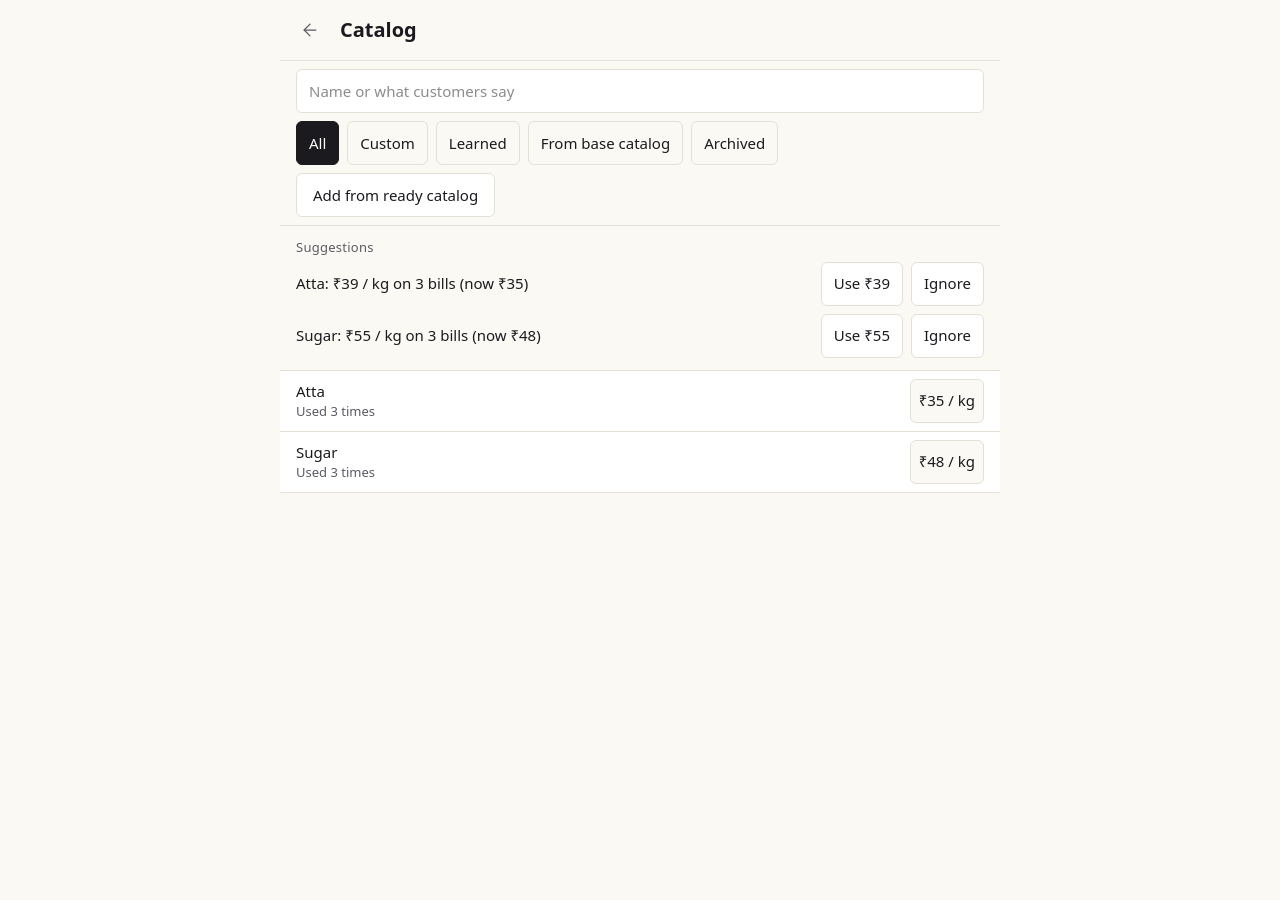
KB-329 - Ignore on a price suggestion › if saving the ignore fails the suggestion stays and the shopkeeper is told
Click the button with aria-label "Ignore the suggestion for Sugar".
click(948, 336)  # box [911,314,984,358]
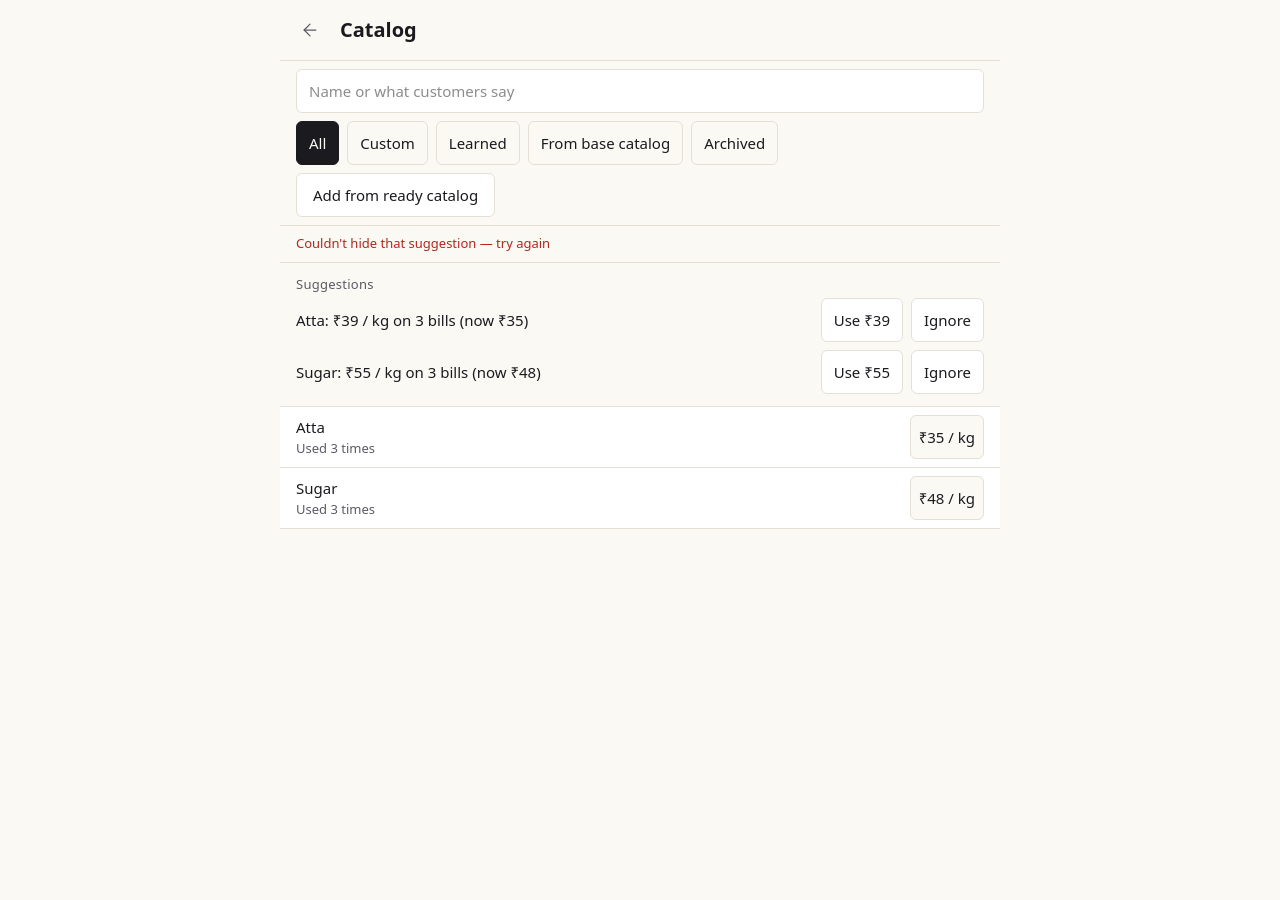
Check: the text "Sugar: ₹55 / kg on 3 bills (now ₹48)" is shown, box [296,362,541,382]
Check: the message reads "Couldn't hide that suggestion — try again", box [296,234,550,252]
